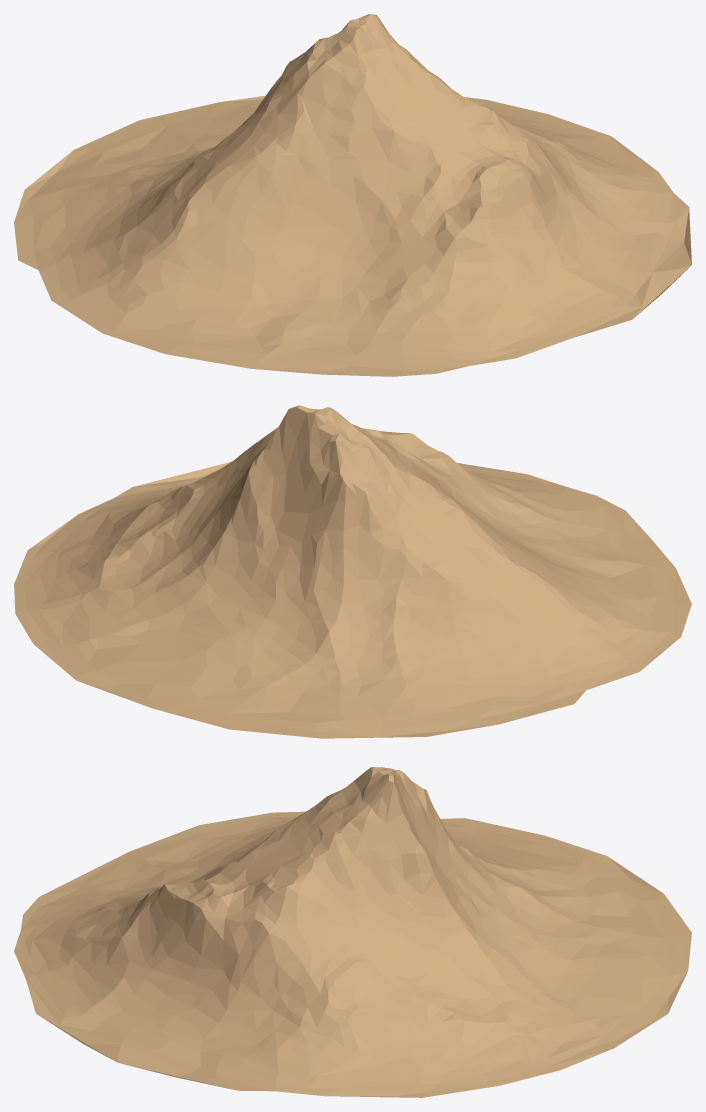
Rendered from MT_Mountain_L_d_07.fbx.
3 views of the same model, one above another, from view 1: azimuth 30°, elevation 25°; view 2: azimuth 150°, elevation 25°; view 3: azimuth 270°, elevation 25° (orthographic).
Parts seen in each view (by area): view 1: MT_Mountain_L_d_07; view 2: MT_Mountain_L_d_07; view 3: MT_Mountain_L_d_07.
Boxes of the visible parts, <box> form: MT_Mountain_L_d_07: <box>14,14,691,376</box>; MT_Mountain_L_d_07: <box>14,405,691,738</box>; MT_Mountain_L_d_07: <box>14,767,691,1097</box>.
Size of the model in its own units: 9799 by 3202 by 9761.
